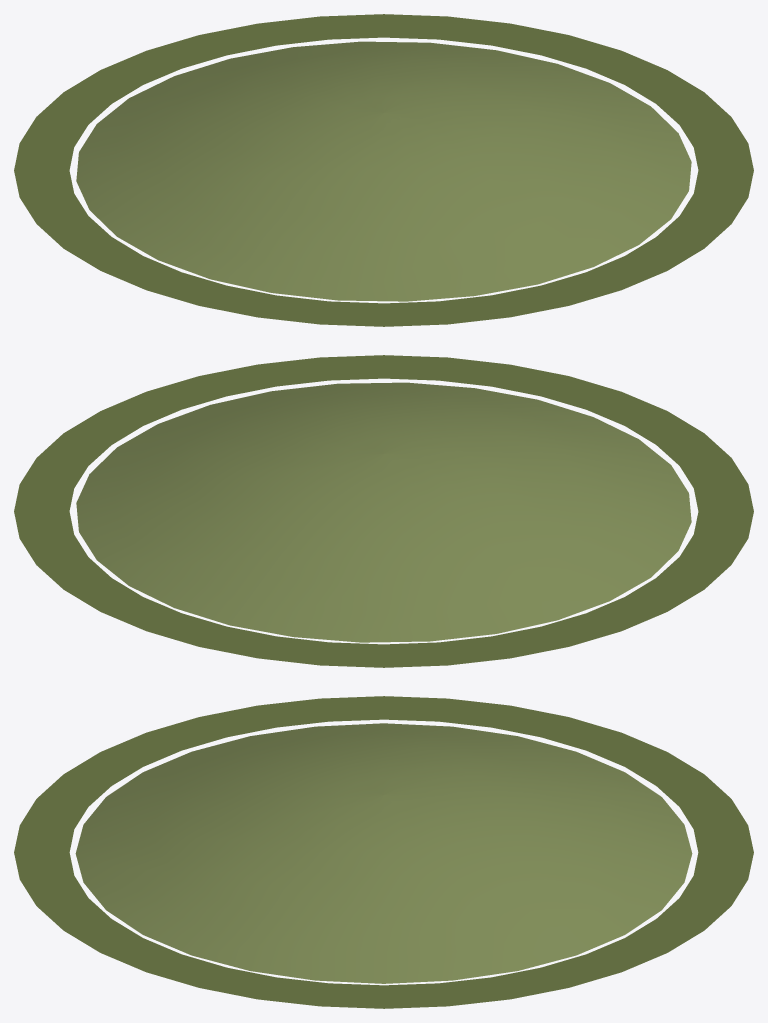
Rendered from round-barrow.glb.
3 renders of one model, top to bottom at view 1: azimuth 30°, elevation 25°; view 2: azimuth 150°, elevation 25°; view 3: azimuth 270°, elevation 25°, orthographic.
Size of the model in its own units: 24 by 2.1 by 24.
